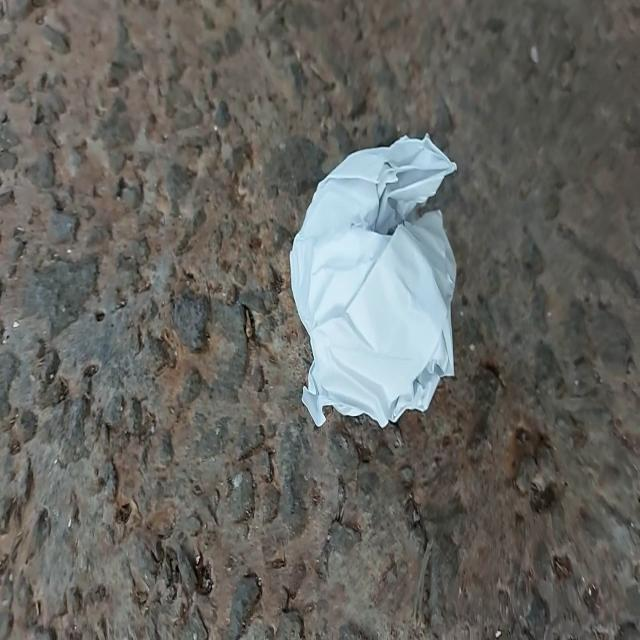Paper: (272, 112, 475, 443)
